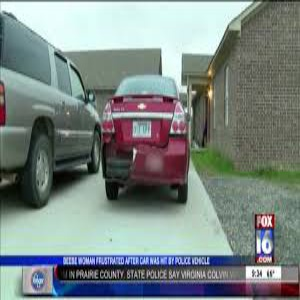bumper: (96, 143, 143, 186)
